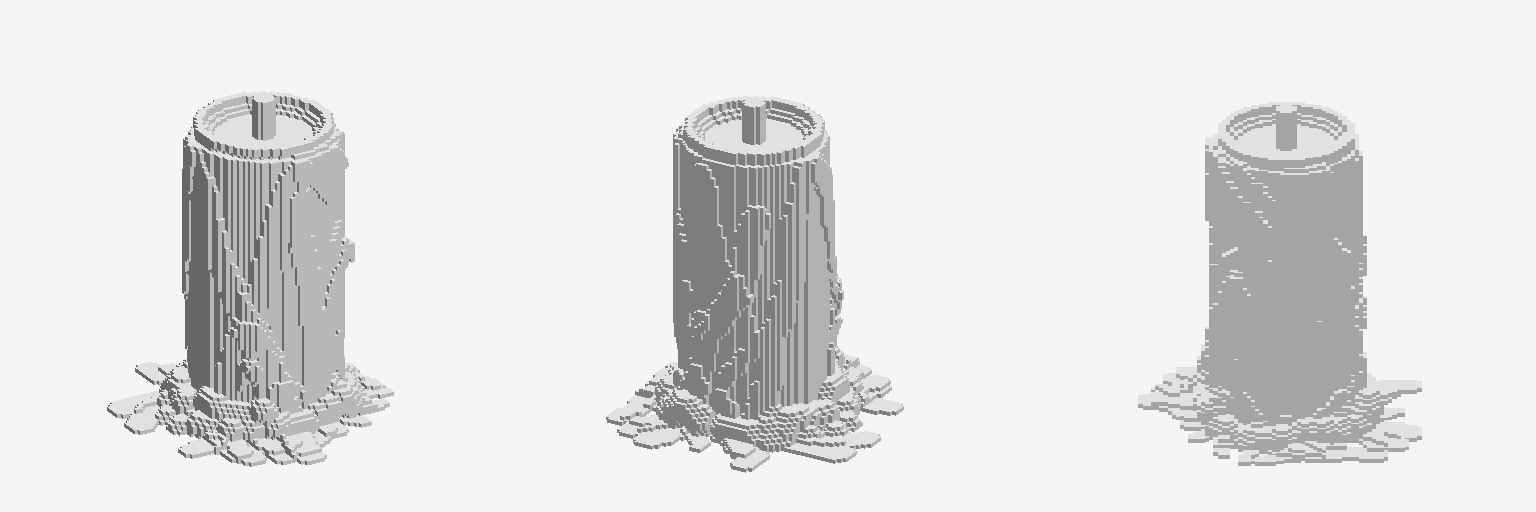
Rendered from candle.obj.
3 renders of one model, left to right at view 1: azimuth 30°, elevation 25°; view 2: azimuth 150°, elevation 25°; view 3: azimuth 270°, elevation 25°, orthographic.
Size of the model in its own units: 65 by 81 by 68.